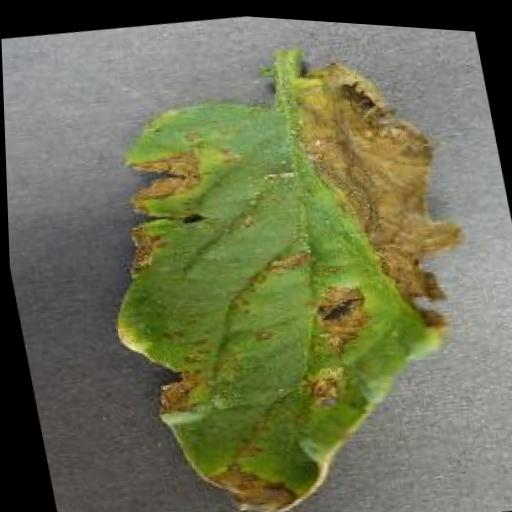Bacterial Spot: (63, 22, 512, 512)
